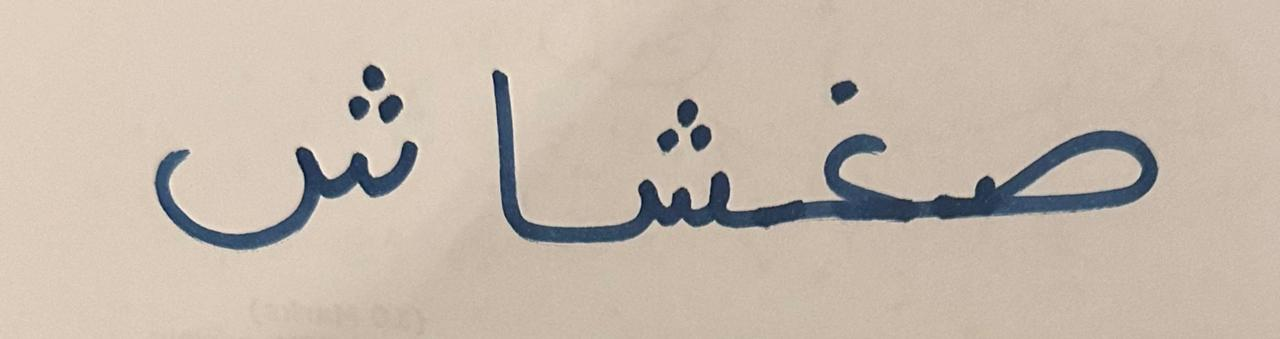alef: (449, 4, 541, 296)
ghain: (768, 30, 939, 290)
seen: (942, 10, 1208, 281)
tah: (89, 1, 444, 291), (544, 30, 765, 283)
